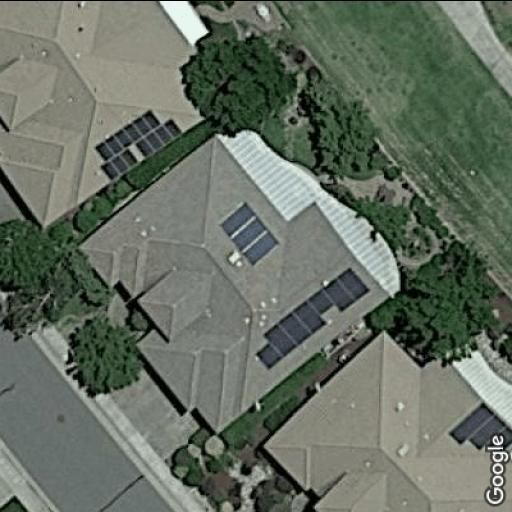solar-panel: (250, 268, 371, 368), (94, 107, 182, 179), (216, 198, 282, 266), (449, 401, 512, 459)
